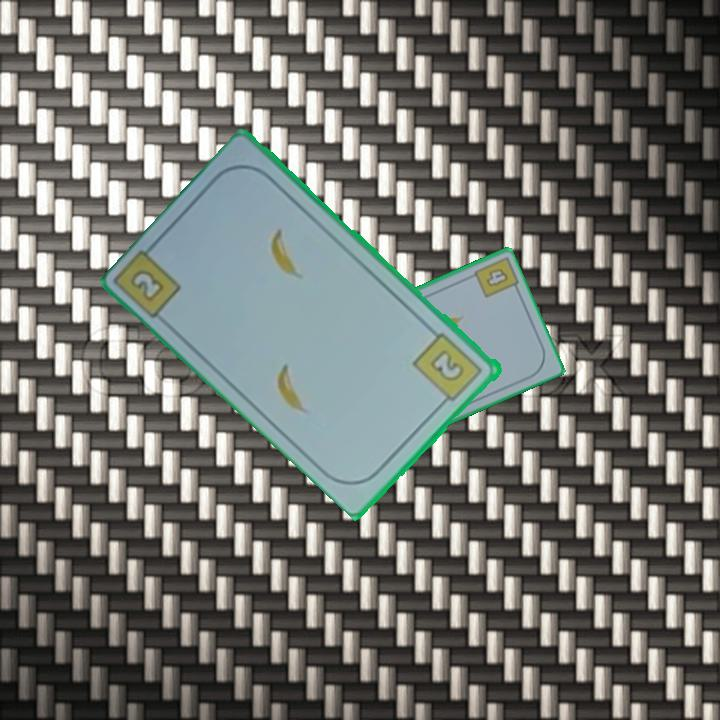2b: (410, 329, 487, 409), (127, 265, 168, 305)
4b: (483, 264, 511, 290)
